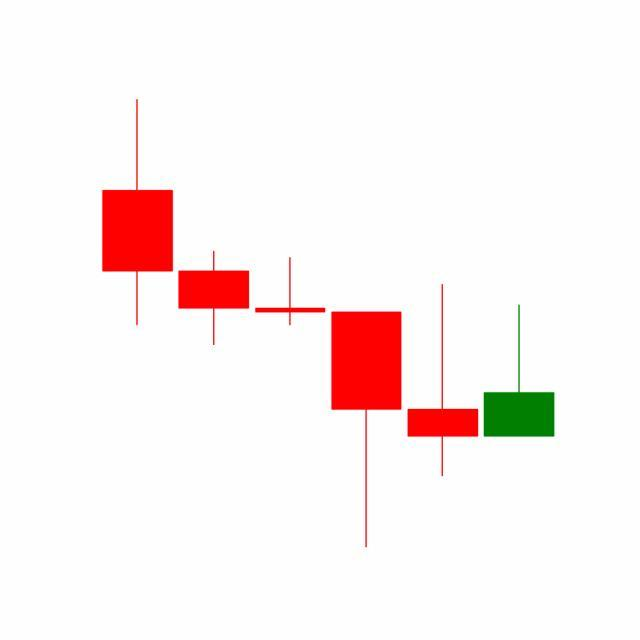Spinning Top: (404, 283, 482, 480)
